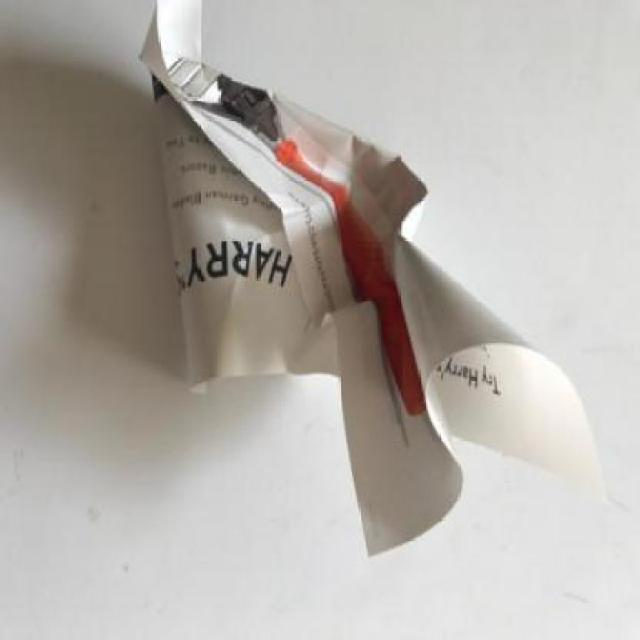PAPER: (140, 1, 634, 562)
